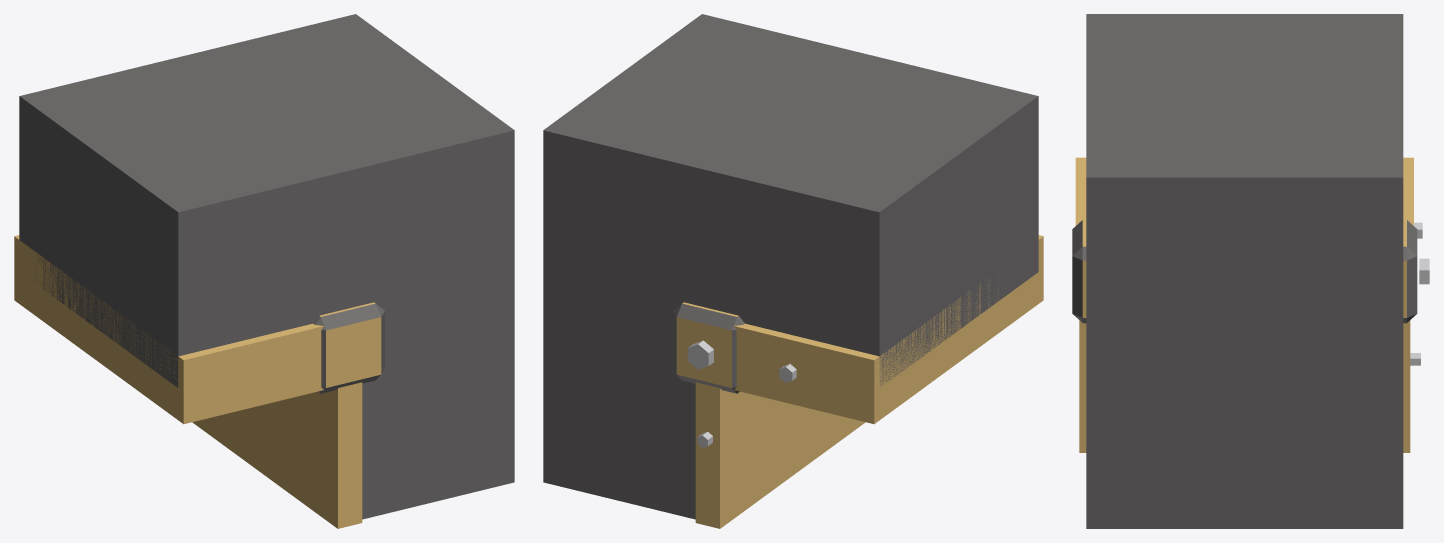
File: CO_Tile_13.fbx
3 views of the same model, side by side, from view 1: azimuth 30°, elevation 25°; view 2: azimuth 150°, elevation 25°; view 3: azimuth 270°, elevation 25° (orthographic).
Visible parts, largest first — view 1: CO_Tile_13; view 2: CO_Tile_13; view 3: CO_Tile_13.
Part boxes in pixels (x1=…): CO_Tile_13: x1=14, y1=14, x2=514, y2=528; CO_Tile_13: x1=543, y1=14, x2=1043, y2=528; CO_Tile_13: x1=1072, y1=14, x2=1429, y2=528.
Bounding box in the file's own units: 1.1 × 1.1 × 1.02.
